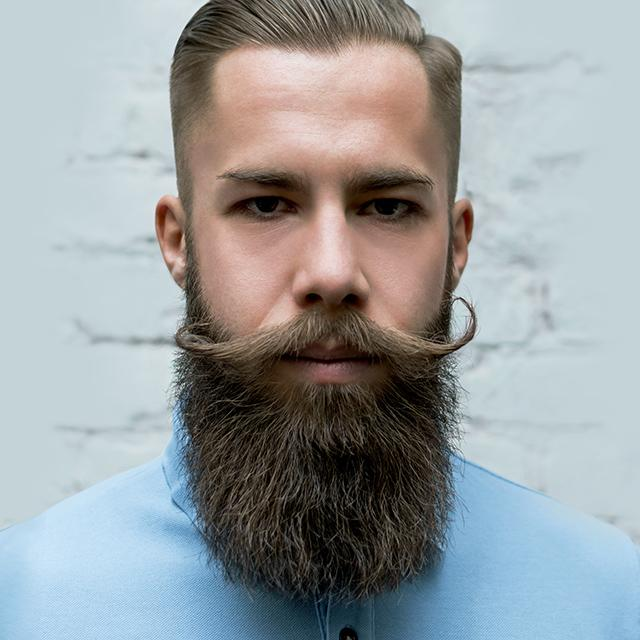beard: (175, 249, 476, 602)
hair: (170, 0, 462, 194)
